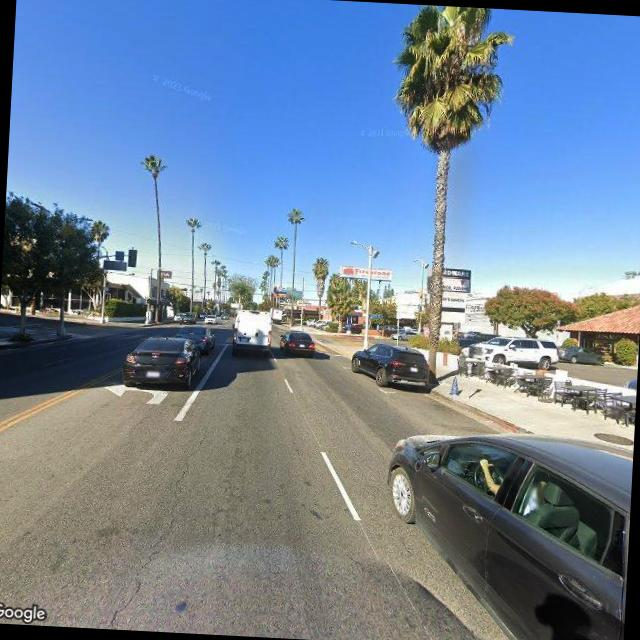pothole: (112, 414, 206, 633)
